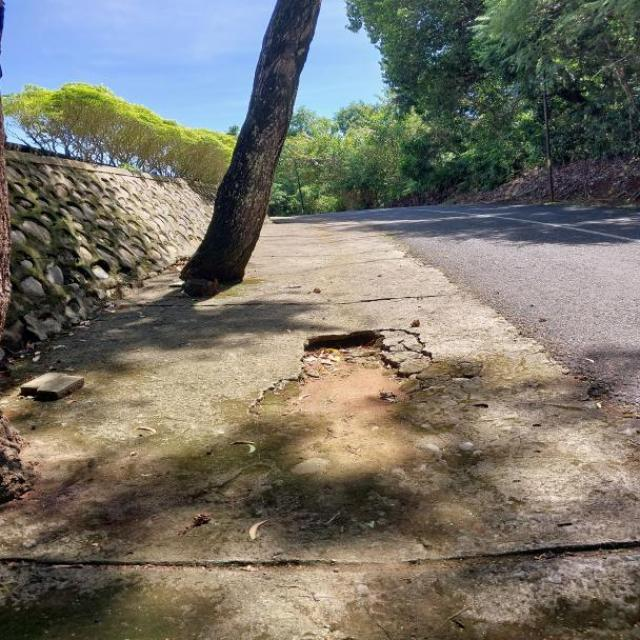tree ahead at: (184, 0, 330, 291)
